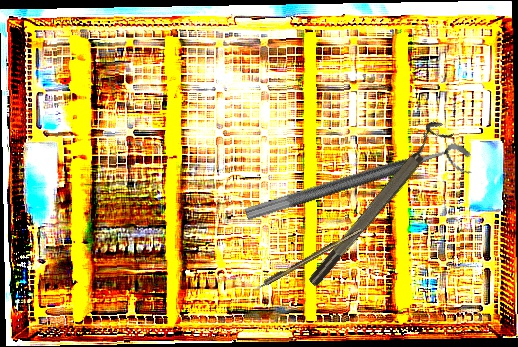Fixation Ring: (298, 116, 455, 290), (243, 138, 477, 241)
Hook Surgical: (247, 227, 363, 295)
